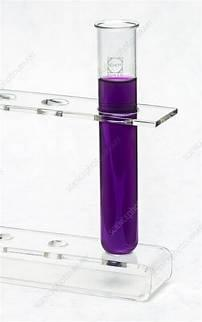Test tube: (87, 18, 147, 256)
